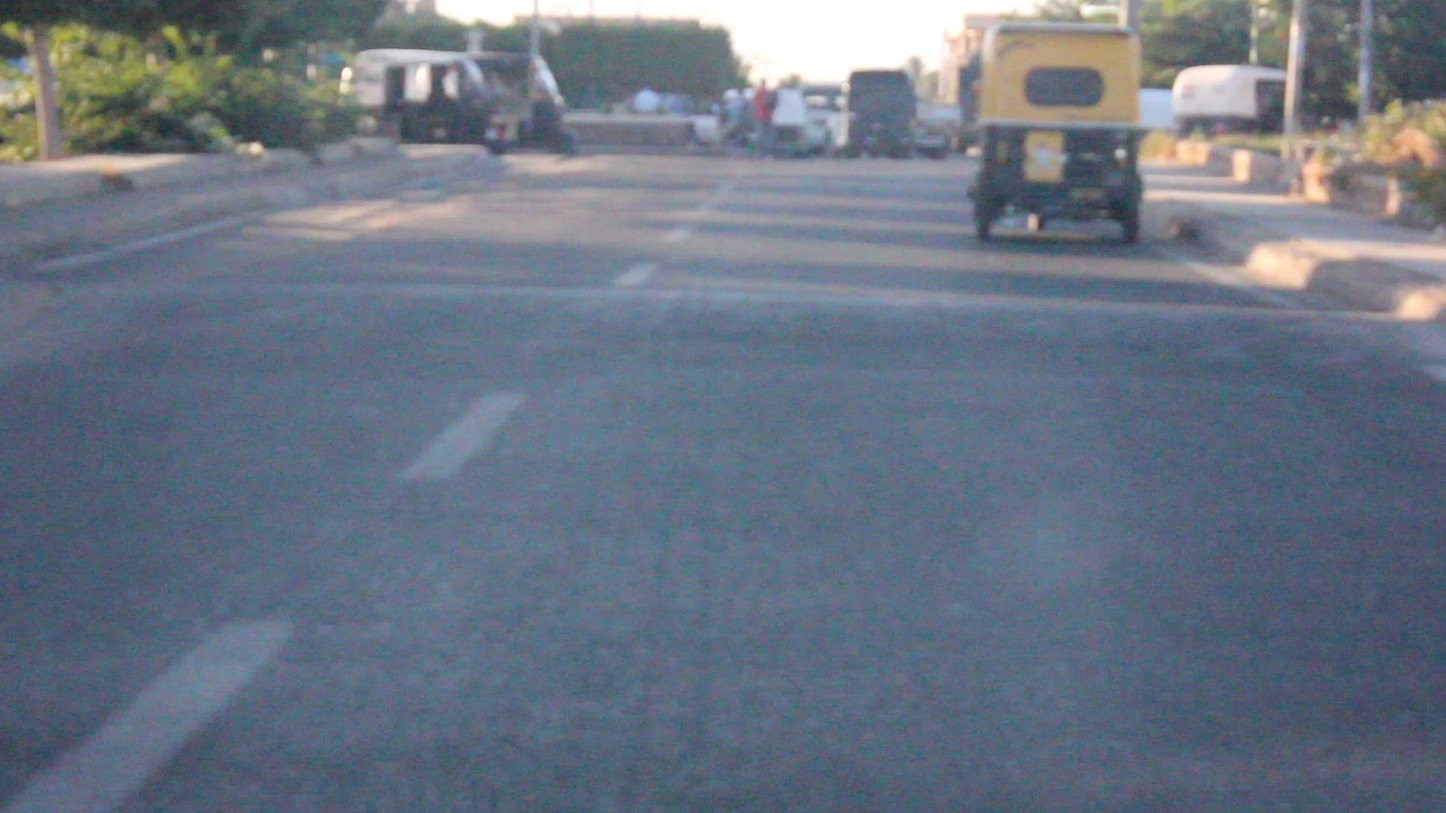Bump: (2, 277, 1446, 386)
